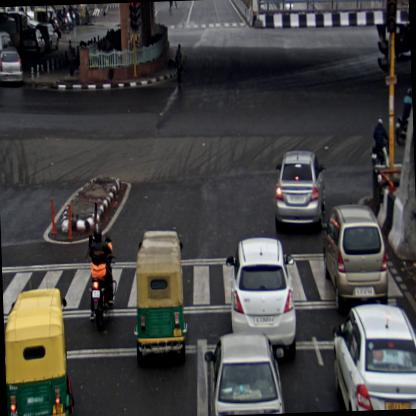car: (224, 235, 298, 364), (332, 301, 415, 411), (322, 204, 390, 314), (205, 332, 287, 416), (273, 150, 328, 235), (0, 47, 26, 92), (0, 27, 15, 74)
motorcycle: (86, 222, 118, 332), (370, 115, 390, 166)
